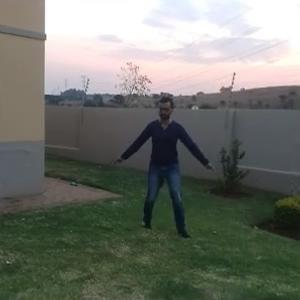land: (116, 88, 218, 240)
